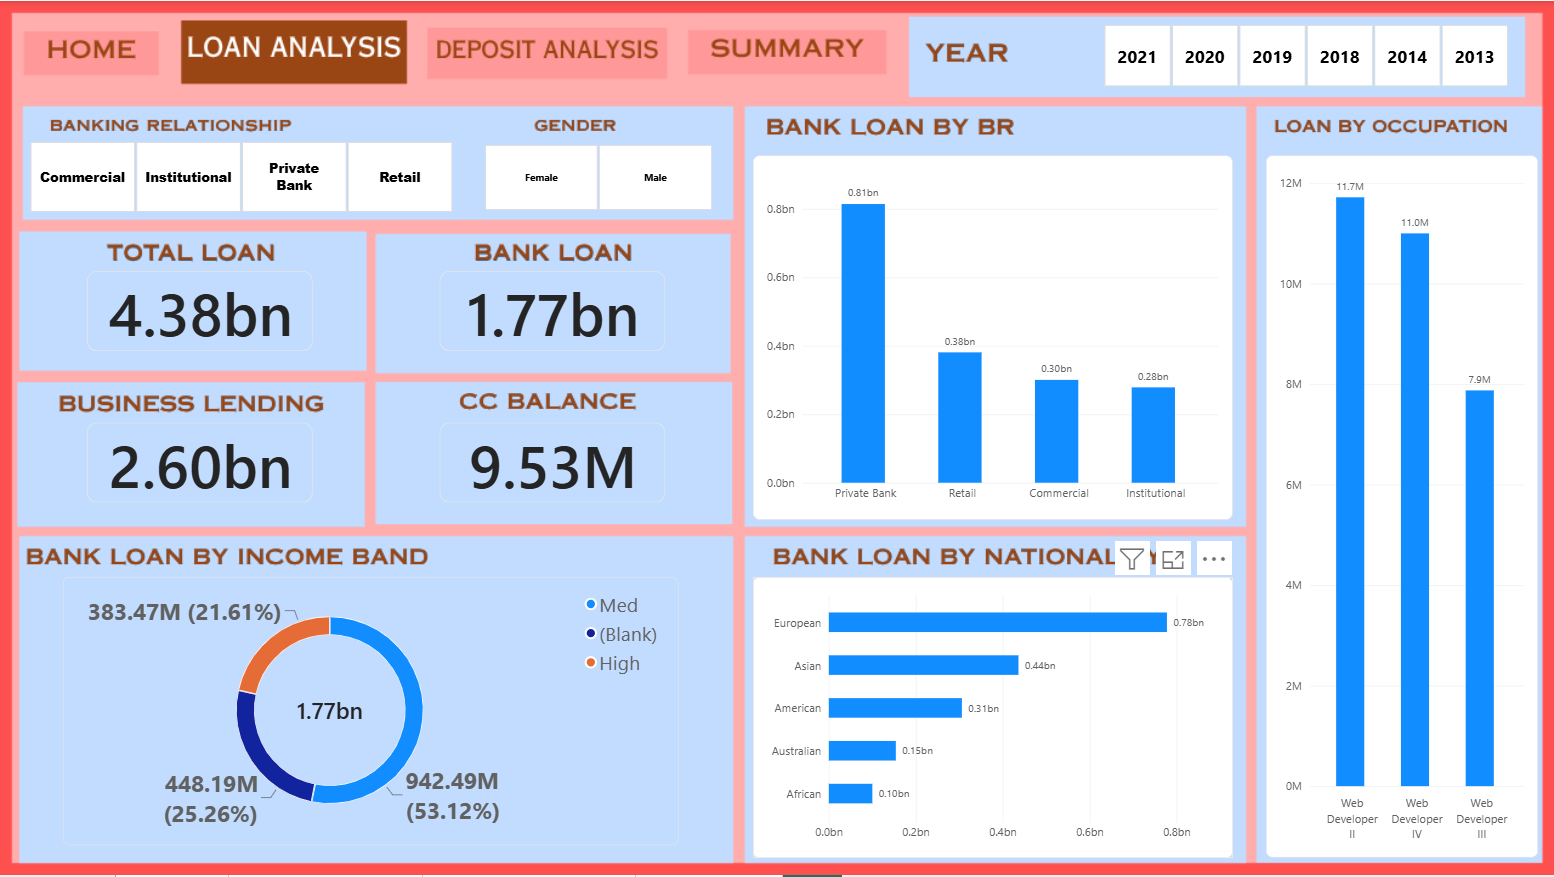

The page's visual inventory and layout, read from the dashboard file:
{"tool":"powerbi","page":{"name":"LOAN ANALYSIS","canvas":[1920,1080],"ordinal":1},"visuals":[{"type":"cardVisual","fields":{"Data":["banking customer.Total Loan"]},"box":[106.8,333.9,279.4,99.9],"z":0},{"type":"slicer","fields":{"Values":["banking customer.Year of Joining"]},"box":[1344.6,27.3,538.3,79.5],"z":1000},{"type":"actionButton","box":[34.1,27.3,159,79.5],"z":2000},{"type":"actionButton","box":[515.6,34.1,306.6,68.1],"z":3000},{"type":"actionButton","box":[838.1,27.3,254.4,68.1],"z":4000},{"type":"cardVisual","fields":{"Data":["Sum(banking customer.Bank Loans)"]},"box":[542.8,333.9,279.4,99.9],"z":5000},{"type":"cardVisual","fields":{"Data":["Sum(banking customer.Business Lending)"]},"box":[106.8,520.1,279.4,99.9],"z":6000},{"type":"cardVisual","fields":{"Data":["Sum(banking customer.Credit Card Balance)"]},"box":[542.8,520.1,279.4,99.9],"z":7000},{"type":"donutChart","fields":{"Category":["banking customer.Income Band"],"Y":["Sum(banking customer.Bank Loans)"]},"box":[77.2,710.9,760.9,331.6],"z":8000},{"type":"clusteredColumnChart","fields":{"Category":["banking customer.BRId"],"Y":["Sum(banking customer.Bank Loans)"]},"box":[931.2,190.8,592.8,449.7],"z":9000},{"type":"clusteredBarChart","fields":{"Category":["banking customer.Nationality"],"Y":["Sum(banking customer.Bank Loans)"]},"box":[931.2,710.9,592.8,347.5],"z":10000},{"type":"slicer","fields":{"Values":["banking customer.BRId"]},"box":[16.6,172.8,560.9,89.9],"z":11000},{"type":"clusteredColumnChart","fields":{"Category":["banking customer.Occupation"],"Y":["Sum(banking customer.Bank Loans)"]},"box":[1564.9,190.8,336.2,867.6],"z":12000},{"type":"slicer","fields":{"Values":["banking customer.GenderId"]},"box":[577.9,175.3,320,84],"z":13001}]}

Visuals, with their boxes in screenshot pixels (x1, y1, x2, y2), scaled from the page's 1920x1080 canvas onto the 1554x877 screenshot:
cardVisual - banking customer.Total Loan: <box>86,271,313,352</box>
slicer - banking customer.Year of Joining: <box>1088,22,1524,87</box>
actionButton: <box>28,22,156,87</box>
actionButton: <box>417,28,665,83</box>
actionButton: <box>678,22,884,77</box>
cardVisual - Sum(banking customer.Bank Loans): <box>439,271,665,352</box>
cardVisual - Sum(banking customer.Business Lending): <box>86,422,313,503</box>
cardVisual - Sum(banking customer.Credit Card Balance): <box>439,422,665,503</box>
donutChart - banking customer.Income Band x Sum(banking customer.Bank Loans): <box>62,577,678,847</box>
clusteredColumnChart - banking customer.BRId x Sum(banking customer.Bank Loans): <box>754,155,1233,520</box>
clusteredBarChart - banking customer.Nationality x Sum(banking customer.Bank Loans): <box>754,577,1233,859</box>
slicer - banking customer.BRId: <box>13,140,467,213</box>
clusteredColumnChart - banking customer.Occupation x Sum(banking customer.Bank Loans): <box>1267,155,1539,859</box>
slicer - banking customer.GenderId: <box>468,142,727,211</box>
